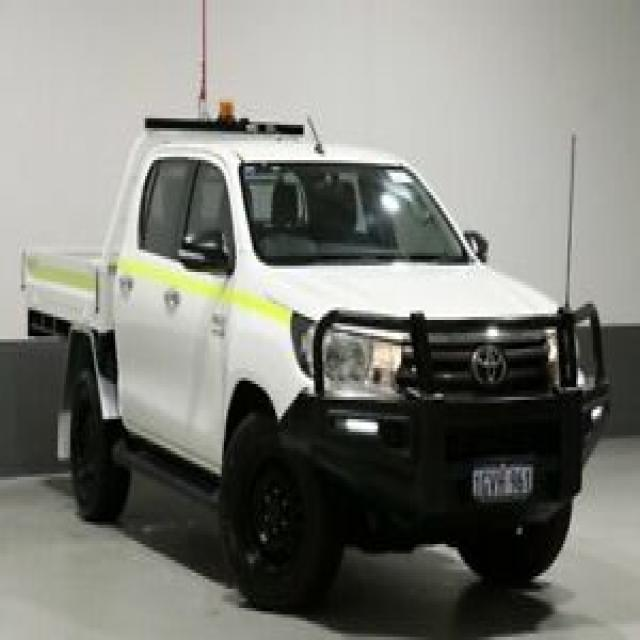light_vehicle: (6, 90, 604, 592)
